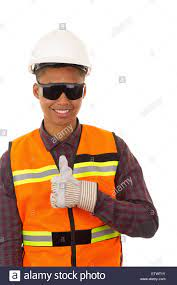Jacket: (10, 128, 123, 267), (30, 31, 96, 71)
